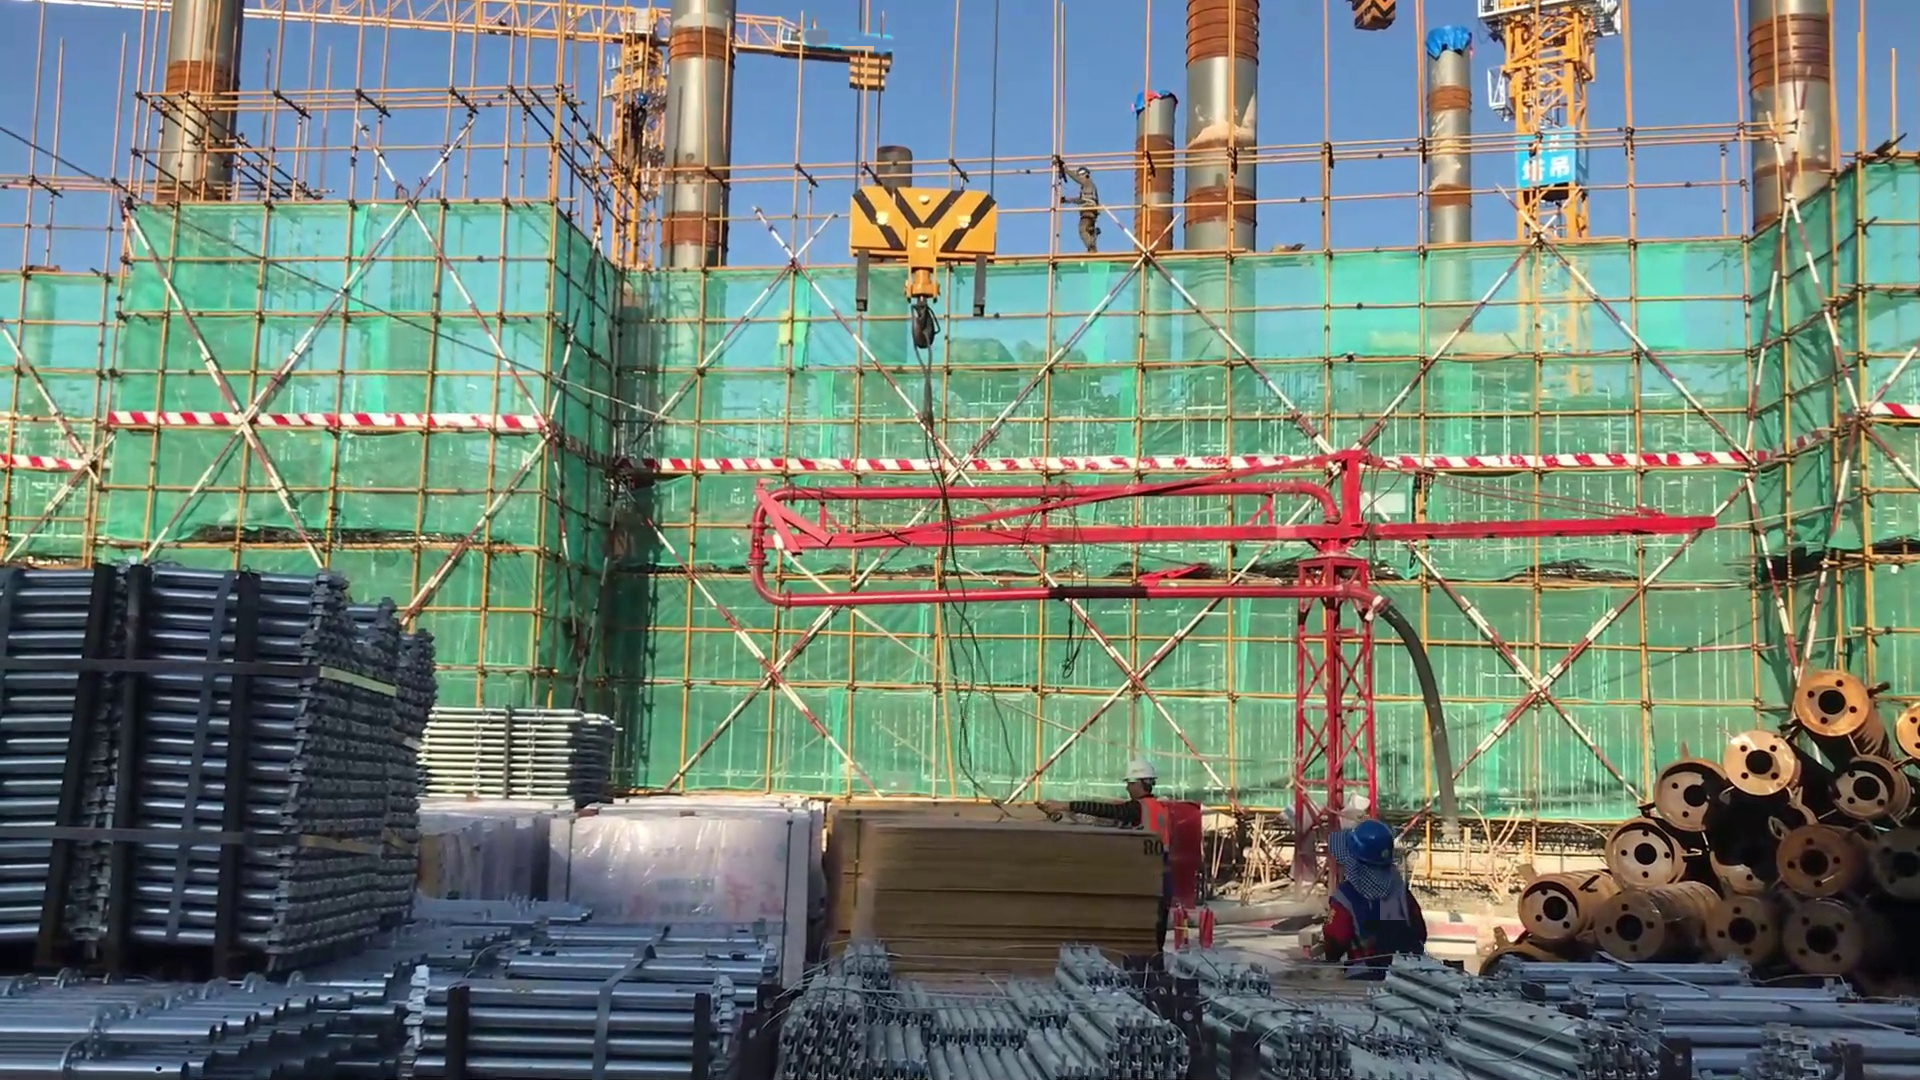board: (822, 799, 1162, 977)
helmet: (1339, 812, 1406, 873), (1116, 754, 1165, 787), (1075, 164, 1099, 179)
hook: (841, 151, 1013, 377)
person: (1034, 757, 1177, 976), (1306, 812, 1434, 990), (1051, 157, 1112, 272)
scaffold: (1, 552, 447, 969), (4, 896, 561, 1080), (408, 905, 793, 1077), (1445, 956, 1920, 1078), (779, 942, 1204, 1073), (1209, 970, 1462, 1080), (413, 706, 636, 821)
slogan: (1522, 123, 1602, 196)
vest: (1323, 874, 1429, 969), (1129, 793, 1175, 876)
